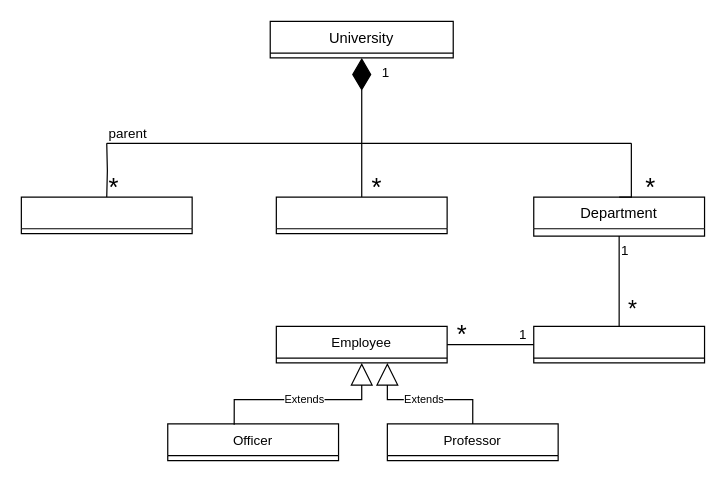
Image size: 726x482. Some labels were removed from this diagram. The shapes that lost their labels are listed below. From the top down, each one's centre as x and y in pixels, then its label:
At (x=106, y=215): "ClassRoom".
At (x=361, y=215): "Working Office".
At (x=619, y=344): "Office".
